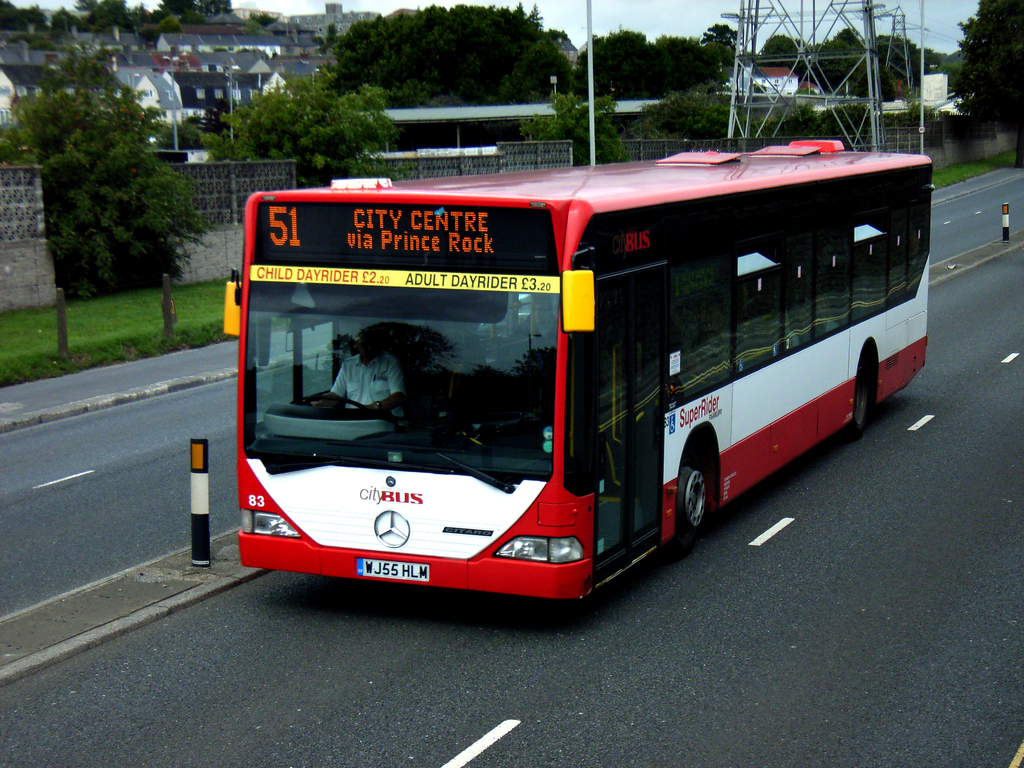Bus: (223, 135, 929, 600)
